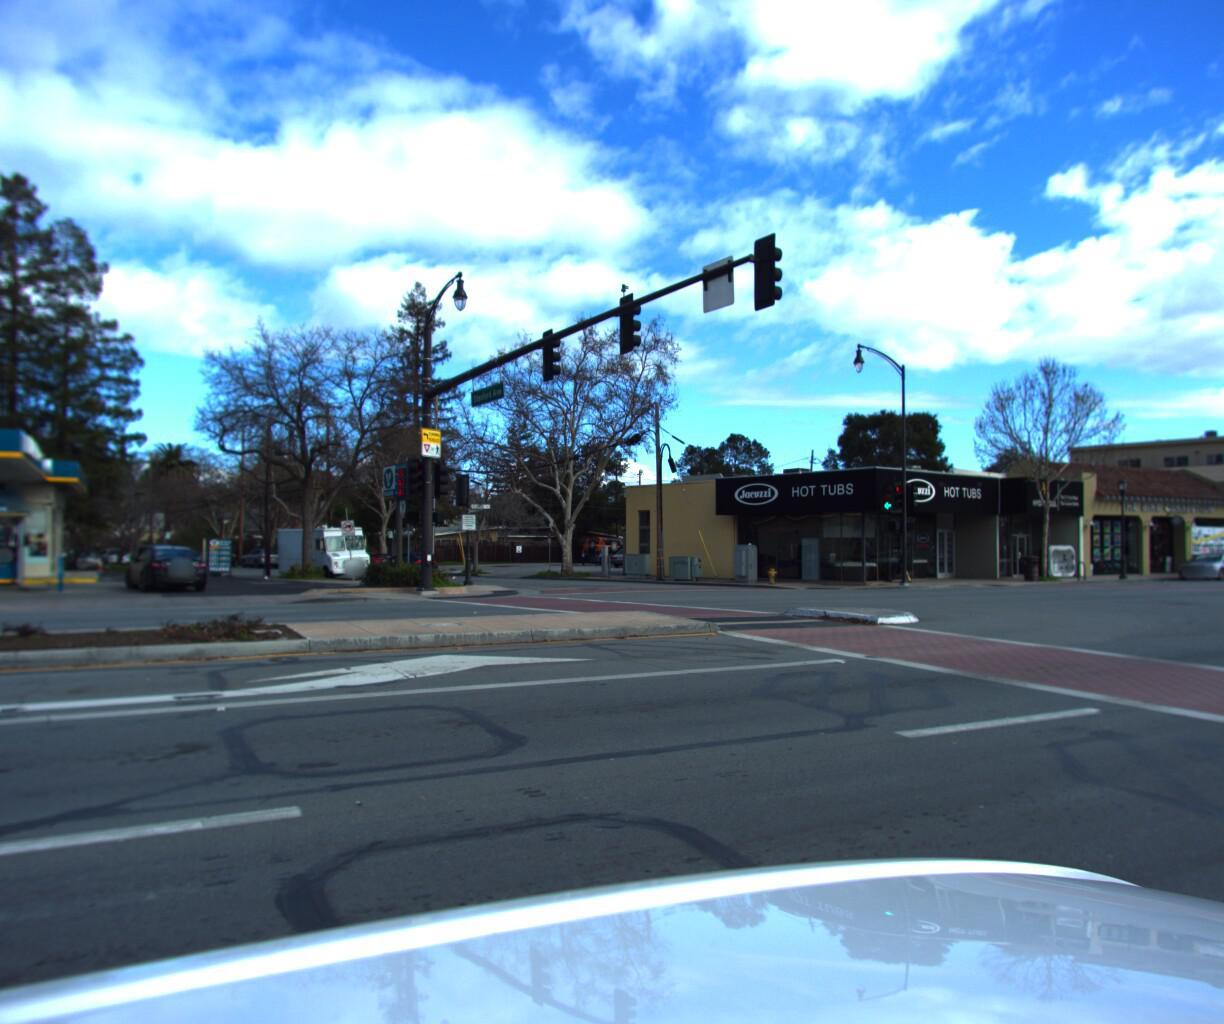car: (117, 538, 216, 594), (1166, 547, 1224, 579), (66, 546, 110, 571), (240, 542, 285, 564), (1208, 537, 1224, 576)
truck: (273, 524, 377, 578)
